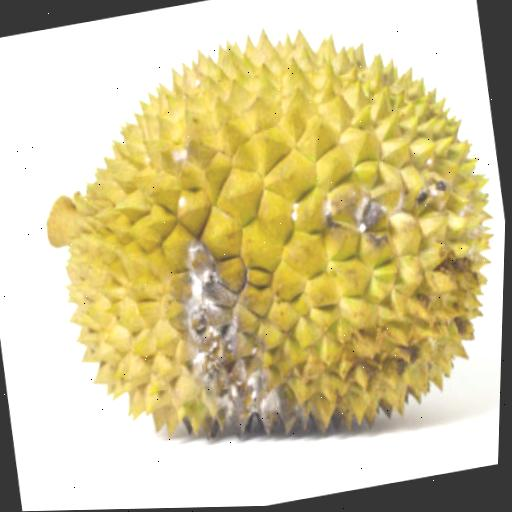mold: (185, 240, 316, 434), (354, 190, 387, 247), (415, 181, 450, 208), (288, 204, 305, 223), (173, 149, 186, 165), (325, 202, 333, 219)
